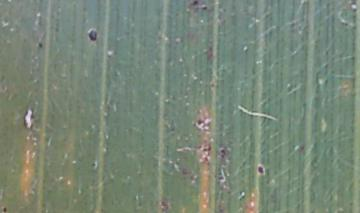tarspot: (85, 27, 98, 43), (158, 199, 170, 213), (201, 143, 212, 153), (256, 164, 265, 176), (196, 117, 205, 127), (203, 154, 211, 165), (198, 5, 210, 12), (219, 147, 226, 159), (89, 160, 97, 168), (217, 174, 225, 182), (37, 41, 44, 49), (2, 205, 9, 213), (191, 1, 199, 6)
